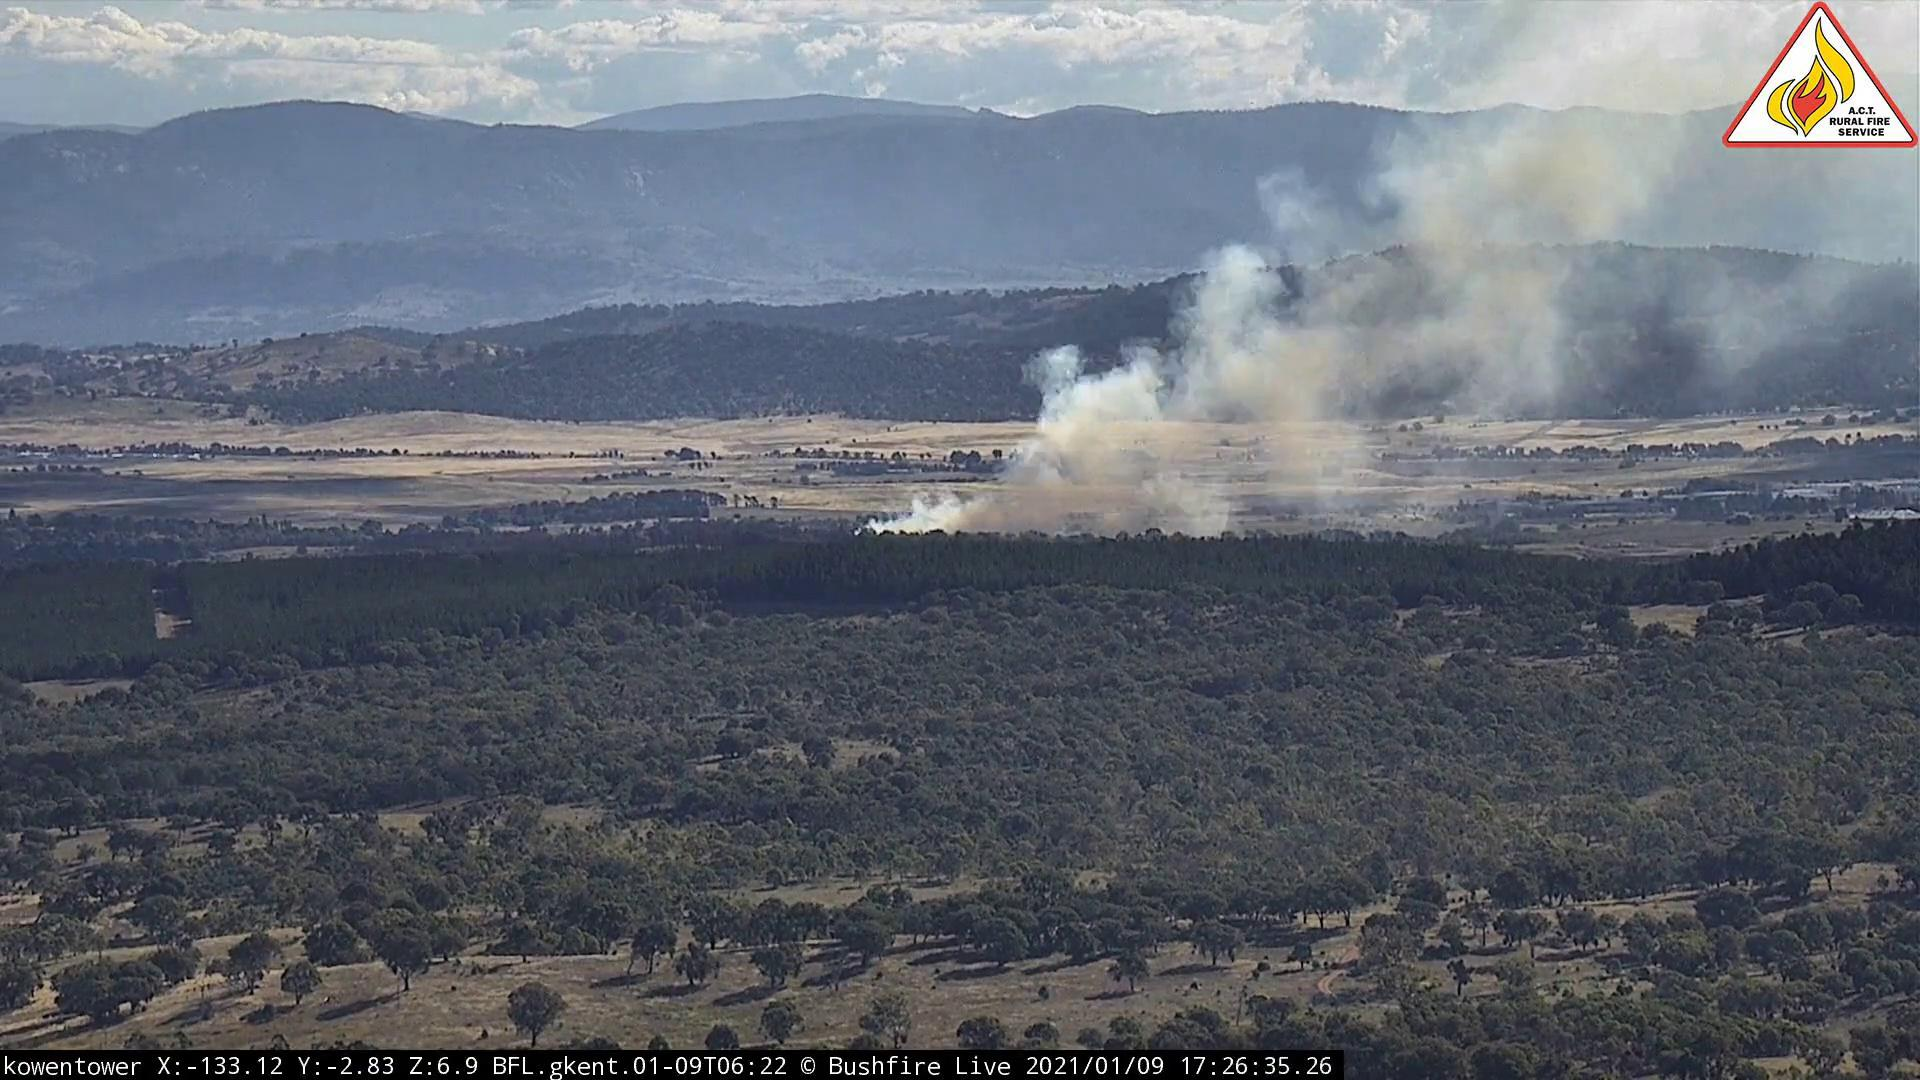Smoke: (857, 84, 1720, 546)
